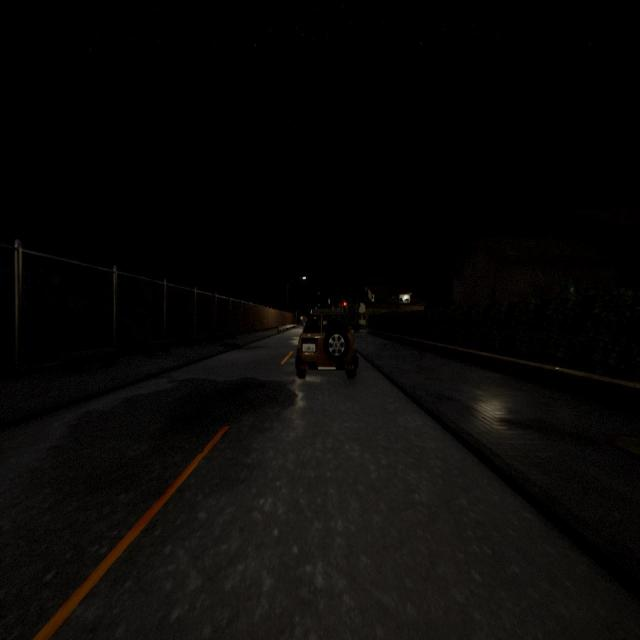Vehicle: (295, 308, 358, 378)
traffic_light: (343, 301, 347, 310)
